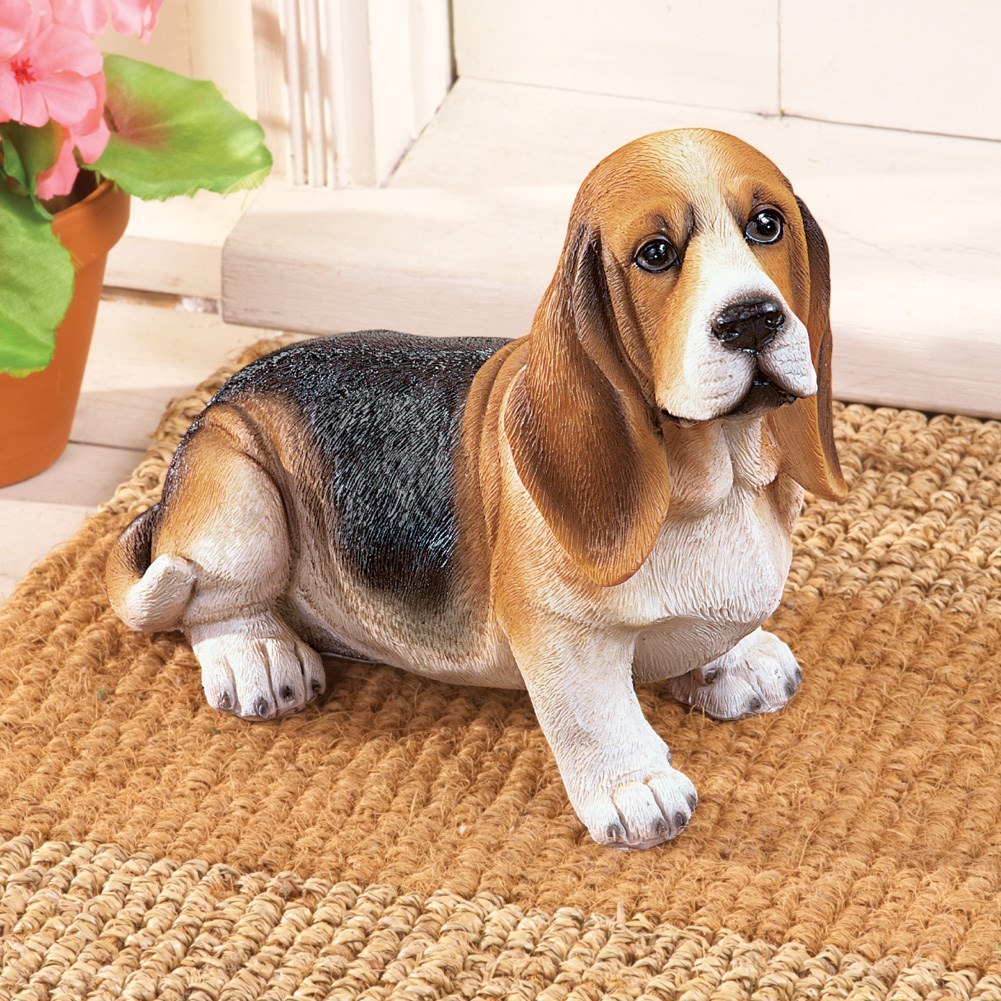dog: (134, 124, 895, 842)
